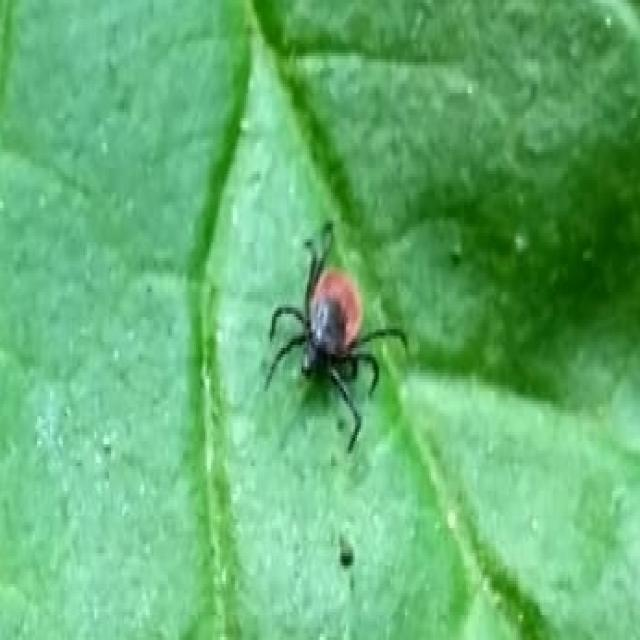Ixodes Ricinus-F: (263, 227, 411, 457)
